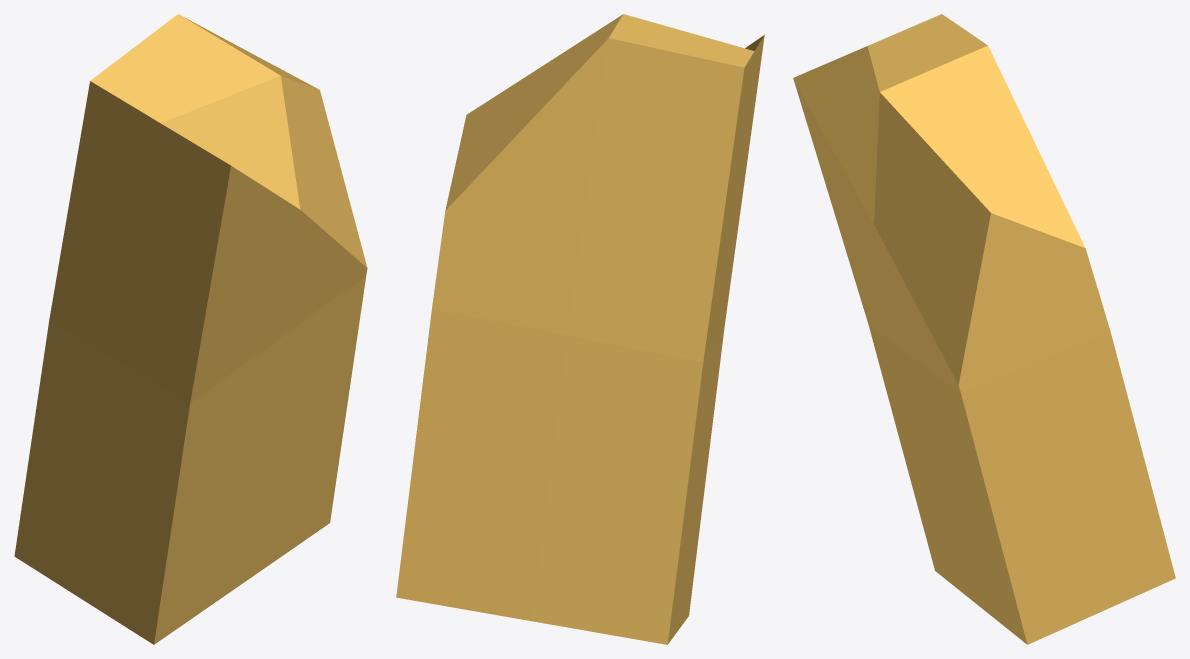
The model's file is Boat skeleton broken column3.fbx.
3 views of the same model, side by side, from view 1: azimuth 30°, elevation 25°; view 2: azimuth 150°, elevation 25°; view 3: azimuth 270°, elevation 25° (orthographic). The views are drawn at different scales.
Visible parts, largest first — view 1: Broken columns.002; view 2: Broken columns.002; view 3: Broken columns.002.
Boxes of the visible parts, left/top/right/bottom form: Broken columns.002: left=14, top=14, right=367, bottom=644; Broken columns.002: left=396, top=14, right=764, bottom=644; Broken columns.002: left=793, top=14, right=1175, bottom=644.
Size of the model in its own units: 5.51 by 10.96 by 6.93.
